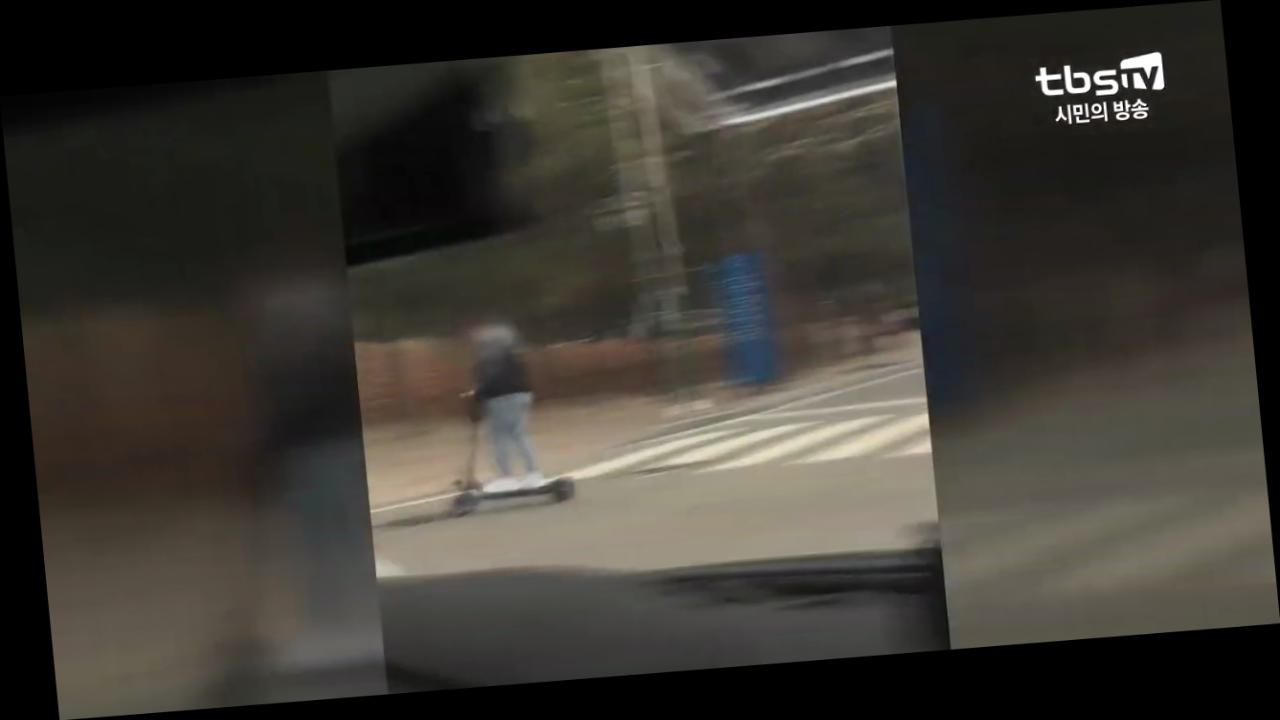nonhelmet: (424, 307, 586, 520)
